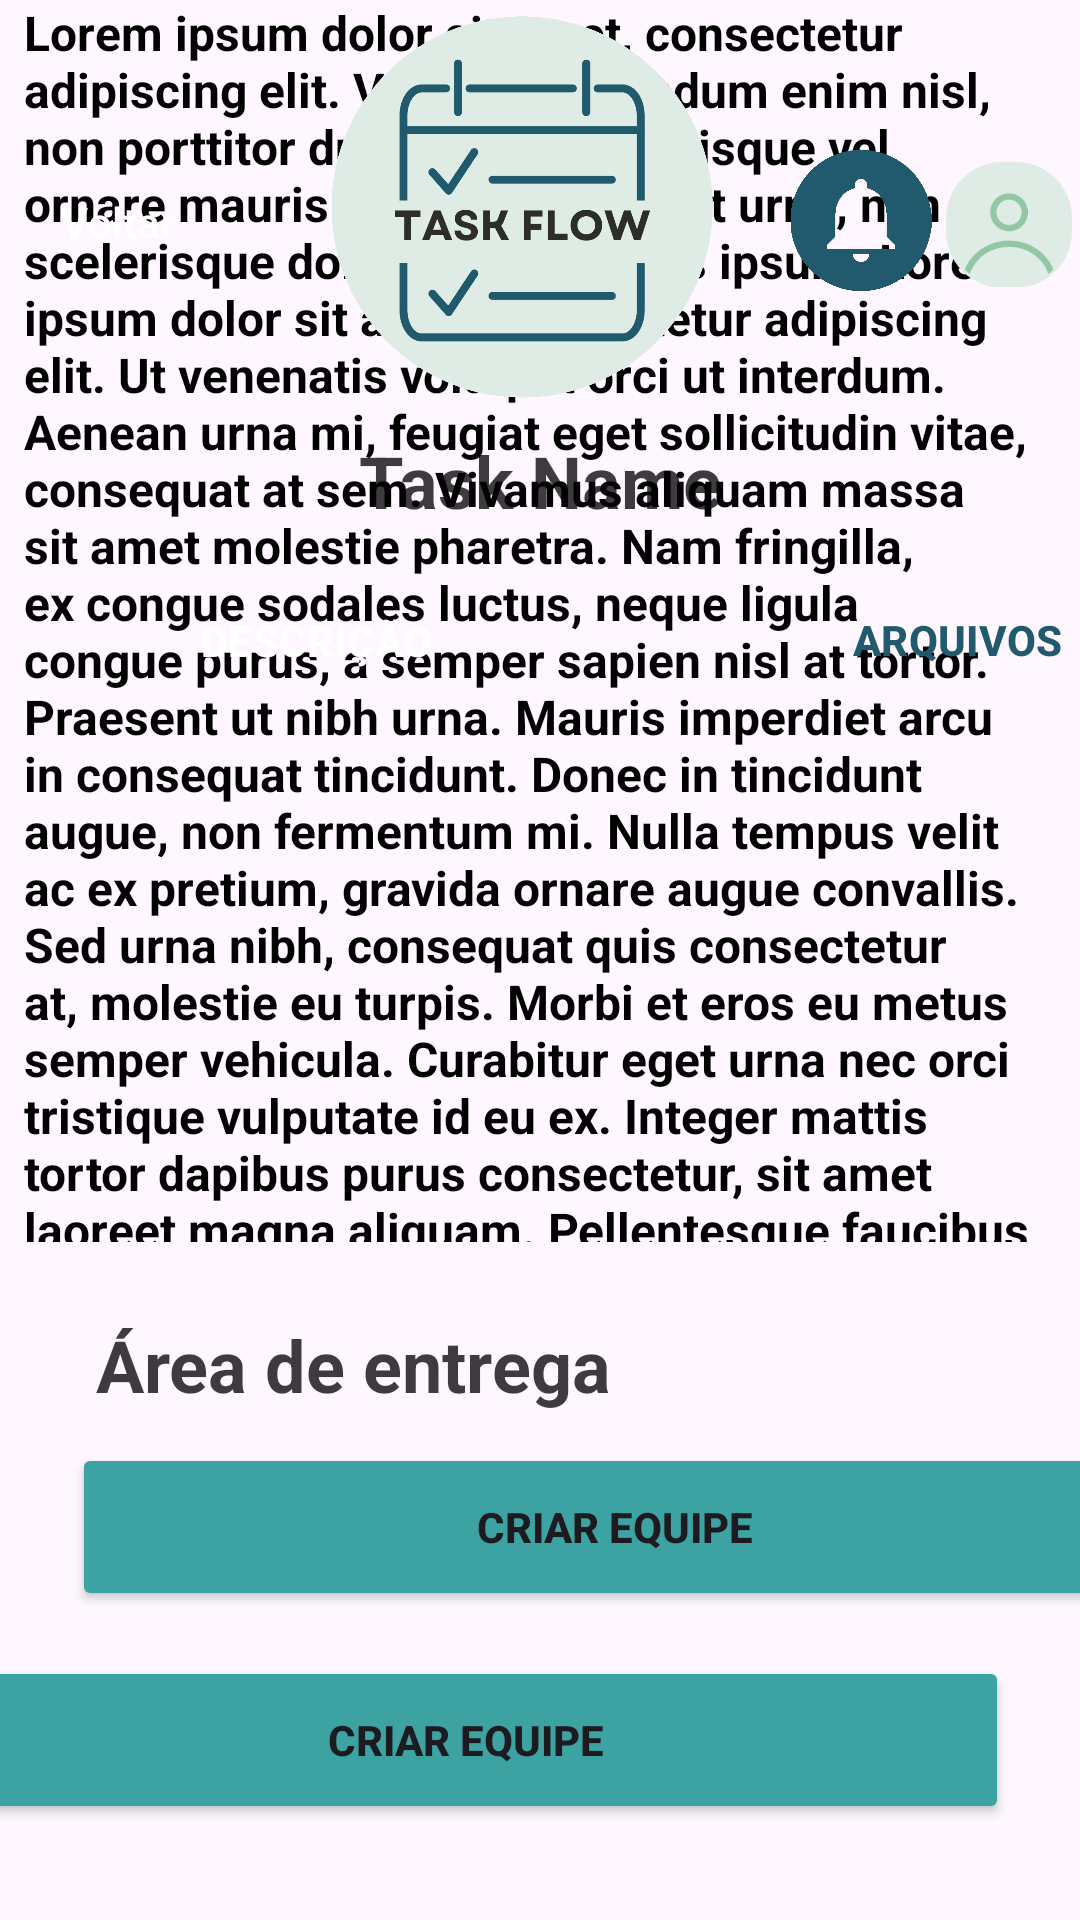

Screen size 1080 × 1920. Icon name, then its box in pixels as [left=x1, top=y1, right=x2, bottom=y2]:
notificationbllue: [left=786, top=150, right=936, bottom=291]
